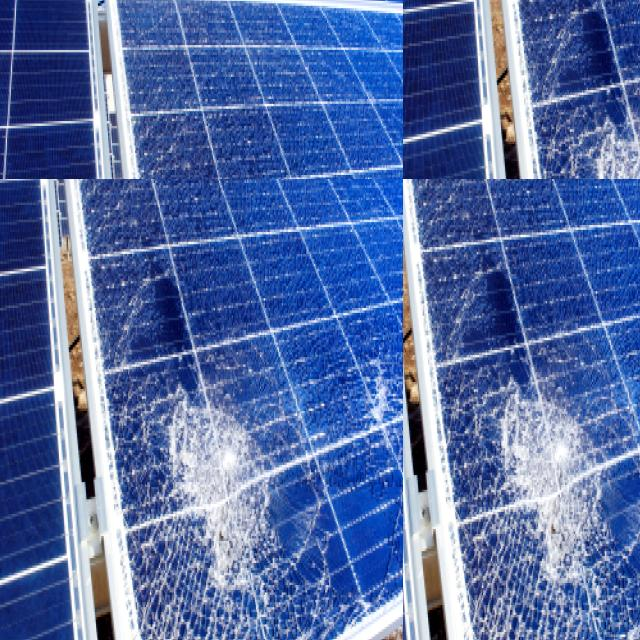bird: (99, 526, 185, 626), (250, 548, 292, 640)
crack: (451, 0, 640, 179), (403, 38, 640, 179), (403, 0, 537, 154)
hotspot: (482, 382, 622, 610)
shadow: (231, 0, 351, 113)
